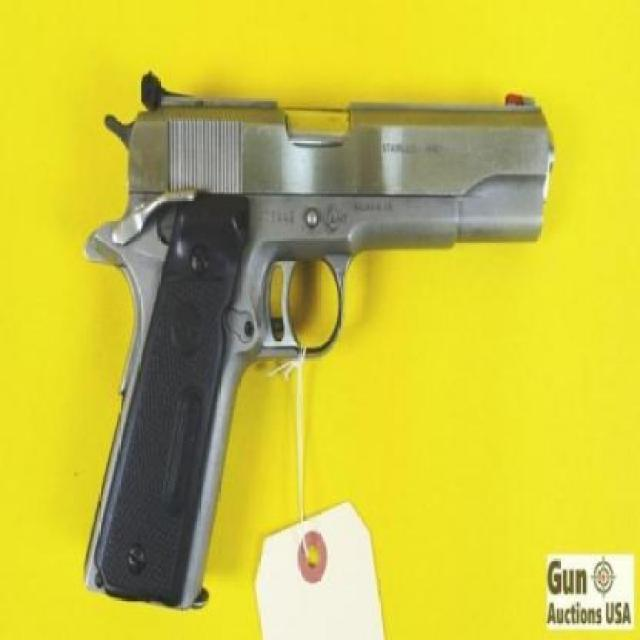gun: (79, 71, 556, 604)
